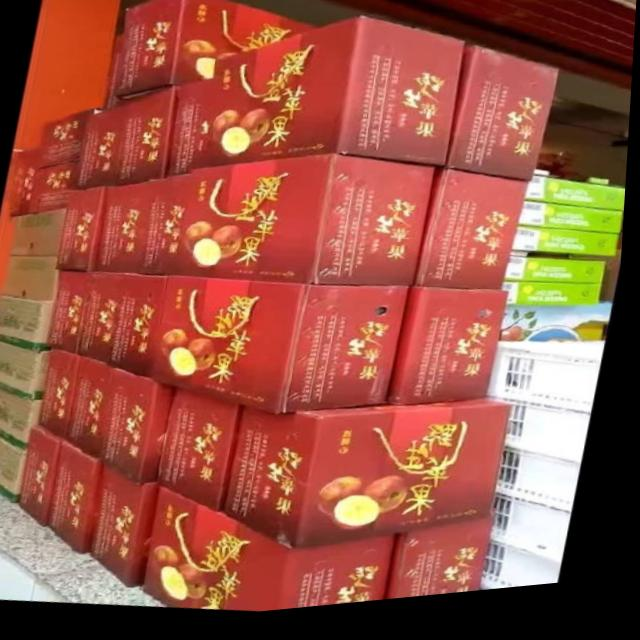box: (190, 22, 467, 175), (229, 409, 517, 556), (153, 280, 415, 420), (173, 160, 437, 294), (150, 490, 405, 617), (114, 0, 320, 103), (448, 55, 561, 192), (391, 296, 513, 414), (419, 177, 531, 300), (162, 390, 248, 517), (96, 464, 166, 591), (394, 525, 501, 608), (110, 371, 182, 488), (54, 441, 109, 556), (115, 88, 178, 187), (111, 276, 170, 380), (136, 176, 193, 278), (72, 357, 121, 463), (24, 426, 71, 528), (99, 184, 151, 276), (77, 104, 128, 193), (167, 83, 212, 180), (81, 273, 127, 365), (39, 110, 107, 170), (59, 190, 106, 273), (43, 348, 85, 440), (528, 186, 628, 224), (521, 212, 626, 246), (516, 236, 623, 269), (0, 295, 59, 353), (0, 340, 55, 401), (53, 271, 89, 356), (0, 387, 46, 453), (508, 267, 609, 297), (33, 162, 83, 215), (12, 210, 68, 257), (506, 292, 606, 318), (6, 257, 62, 303), (0, 434, 34, 504)
